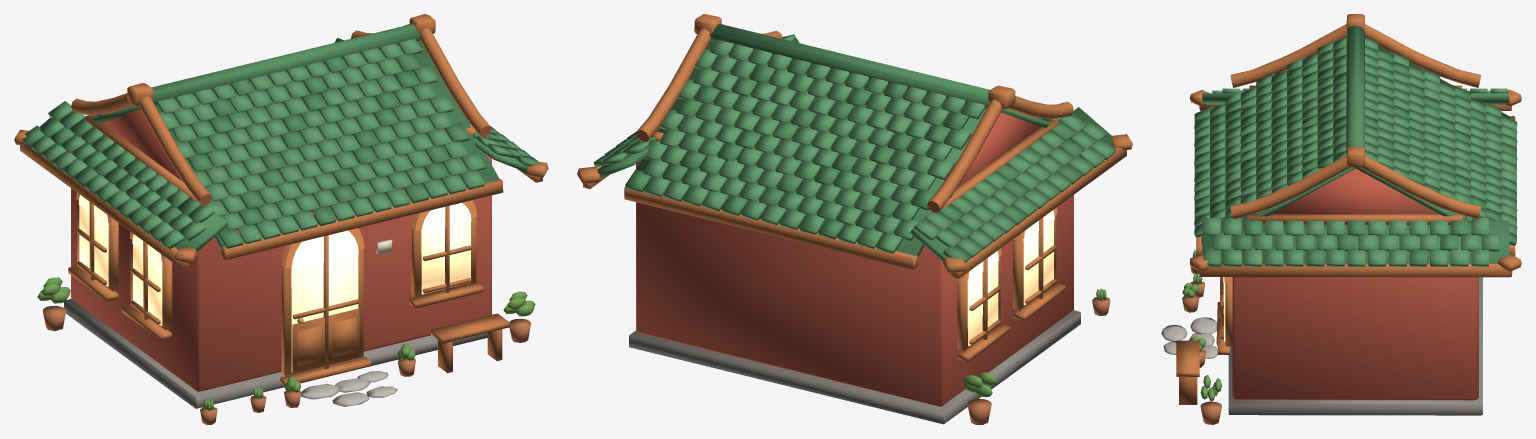
Rendered from ethnic.glb.
3 views of the same model, side by side, from view 1: azimuth 30°, elevation 25°; view 2: azimuth 150°, elevation 25°; view 3: azimuth 270°, elevation 25° (orthographic). The views are drawn at different scales.
Visible parts, largest first — view 1: ethnic; view 2: ethnic; view 3: ethnic.
Boxes of the visible parts, <box> form: ethnic: <box>14,14,548,424</box>; ethnic: <box>577,14,1132,424</box>; ethnic: <box>1161,14,1521,424</box>.
Size of the model in its own units: 3.03 by 2.12 by 2.62.
